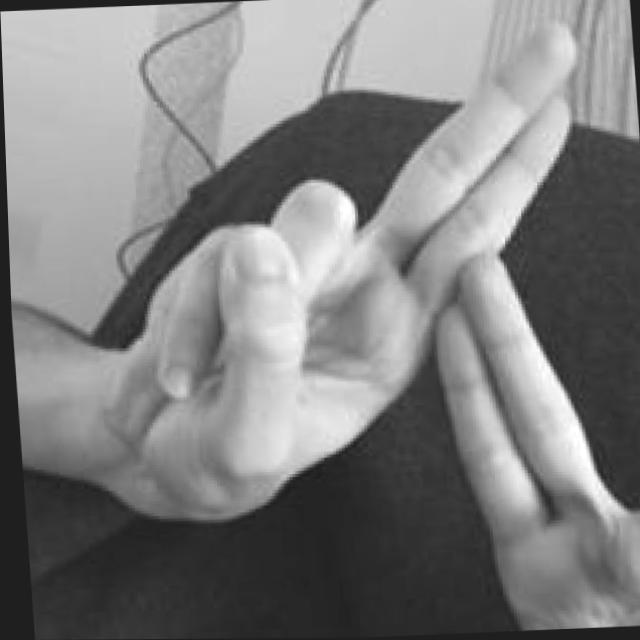K: (75, 14, 640, 639)
